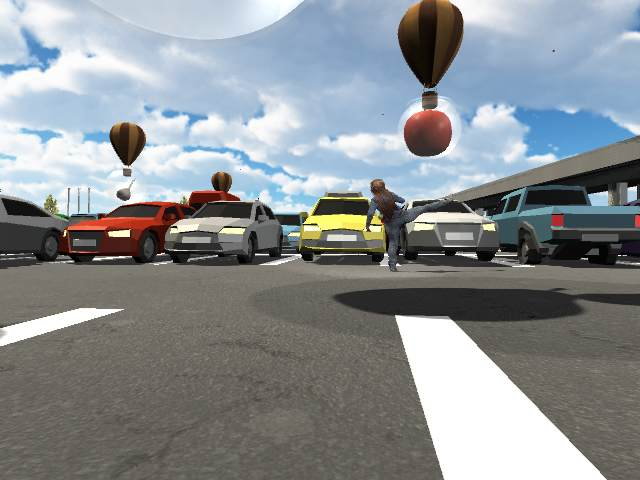turn_right: (366, 179, 456, 273)
